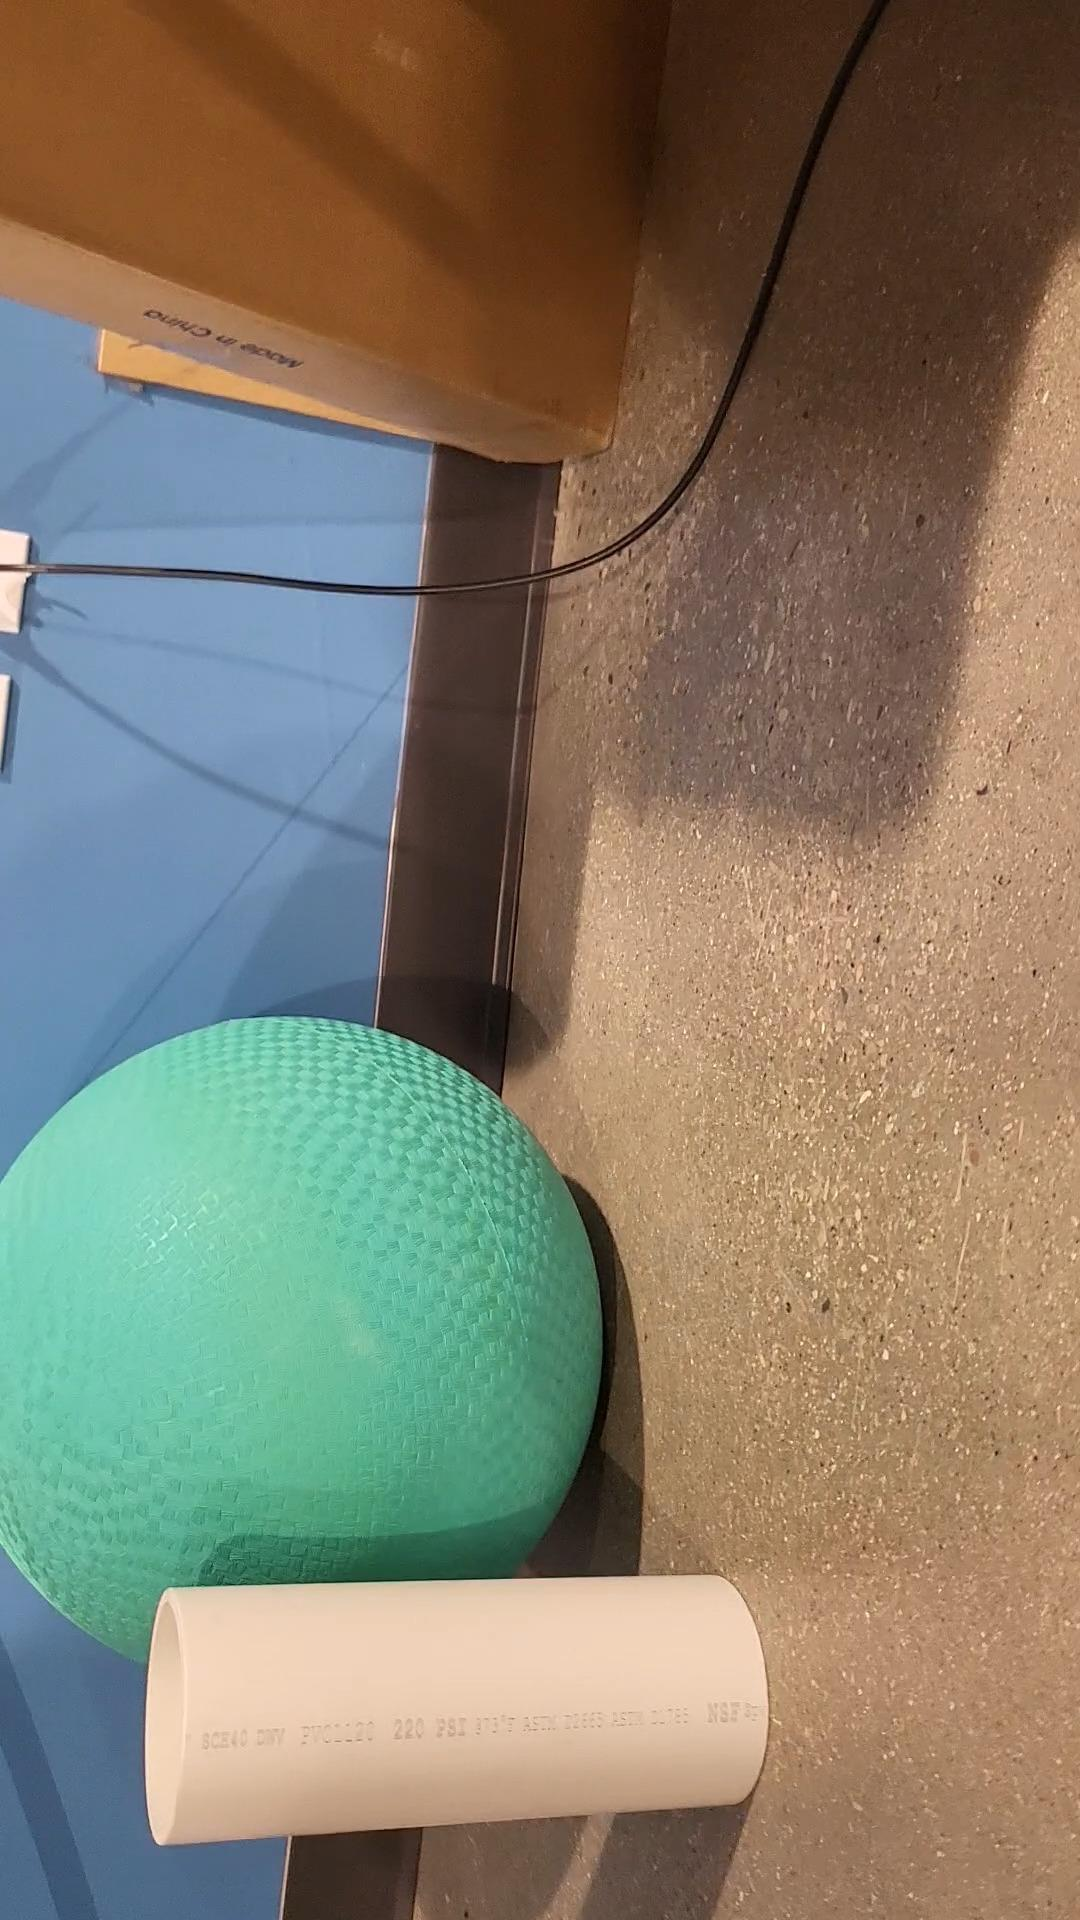algae: (0, 1015, 600, 1669)
coral: (150, 1588, 770, 1840)
